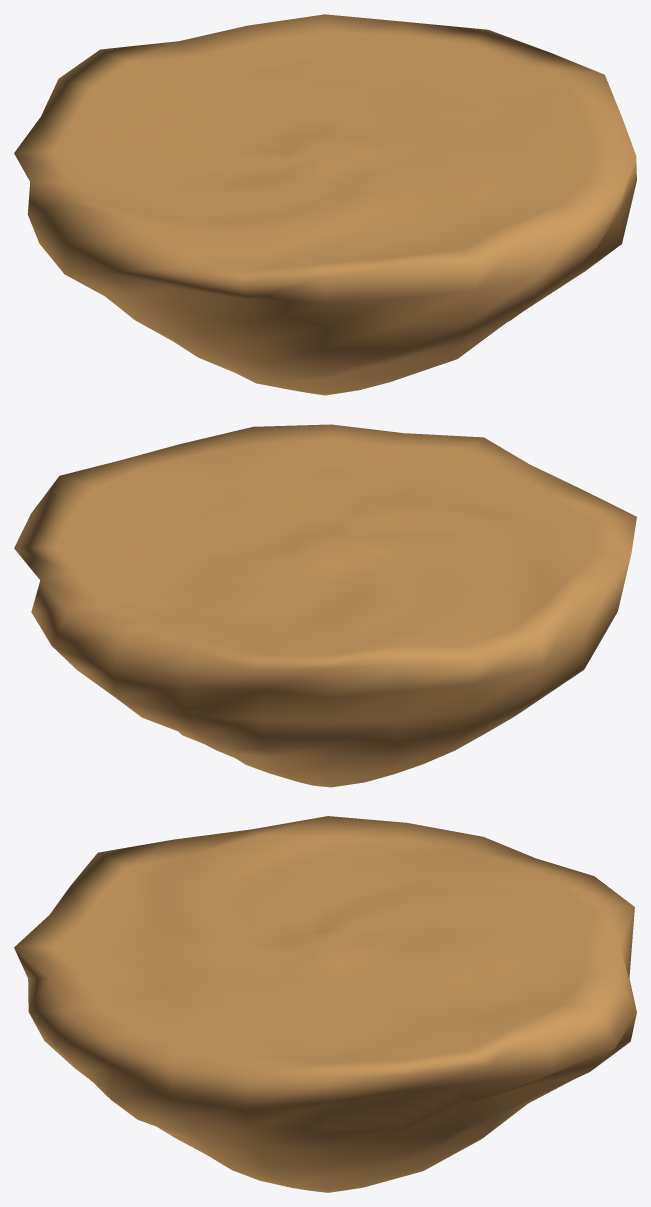
File: tatooine.obj
3 views of the same model, one above another, from view 1: azimuth 30°, elevation 25°; view 2: azimuth 150°, elevation 25°; view 3: azimuth 270°, elevation 25° (orthographic). The views are drawn at different scales.
Visible parts, largest first — view 1: tatooine_island; view 2: tatooine_island; view 3: tatooine_island.
Part boxes in pixels (x1,y1,x2,y2): tatooine_island: [14, 14, 636, 395]; tatooine_island: [14, 424, 636, 787]; tatooine_island: [14, 816, 636, 1192].
Size of the model in its own units: 1.38 by 0.6239 by 1.38.
